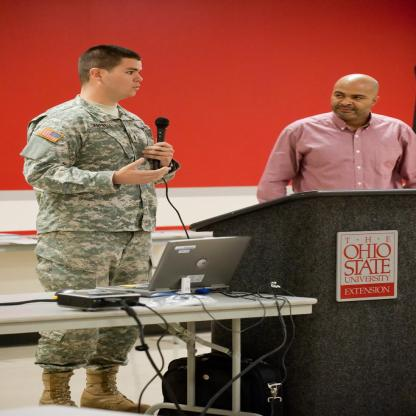board: (93, 233, 255, 299)
